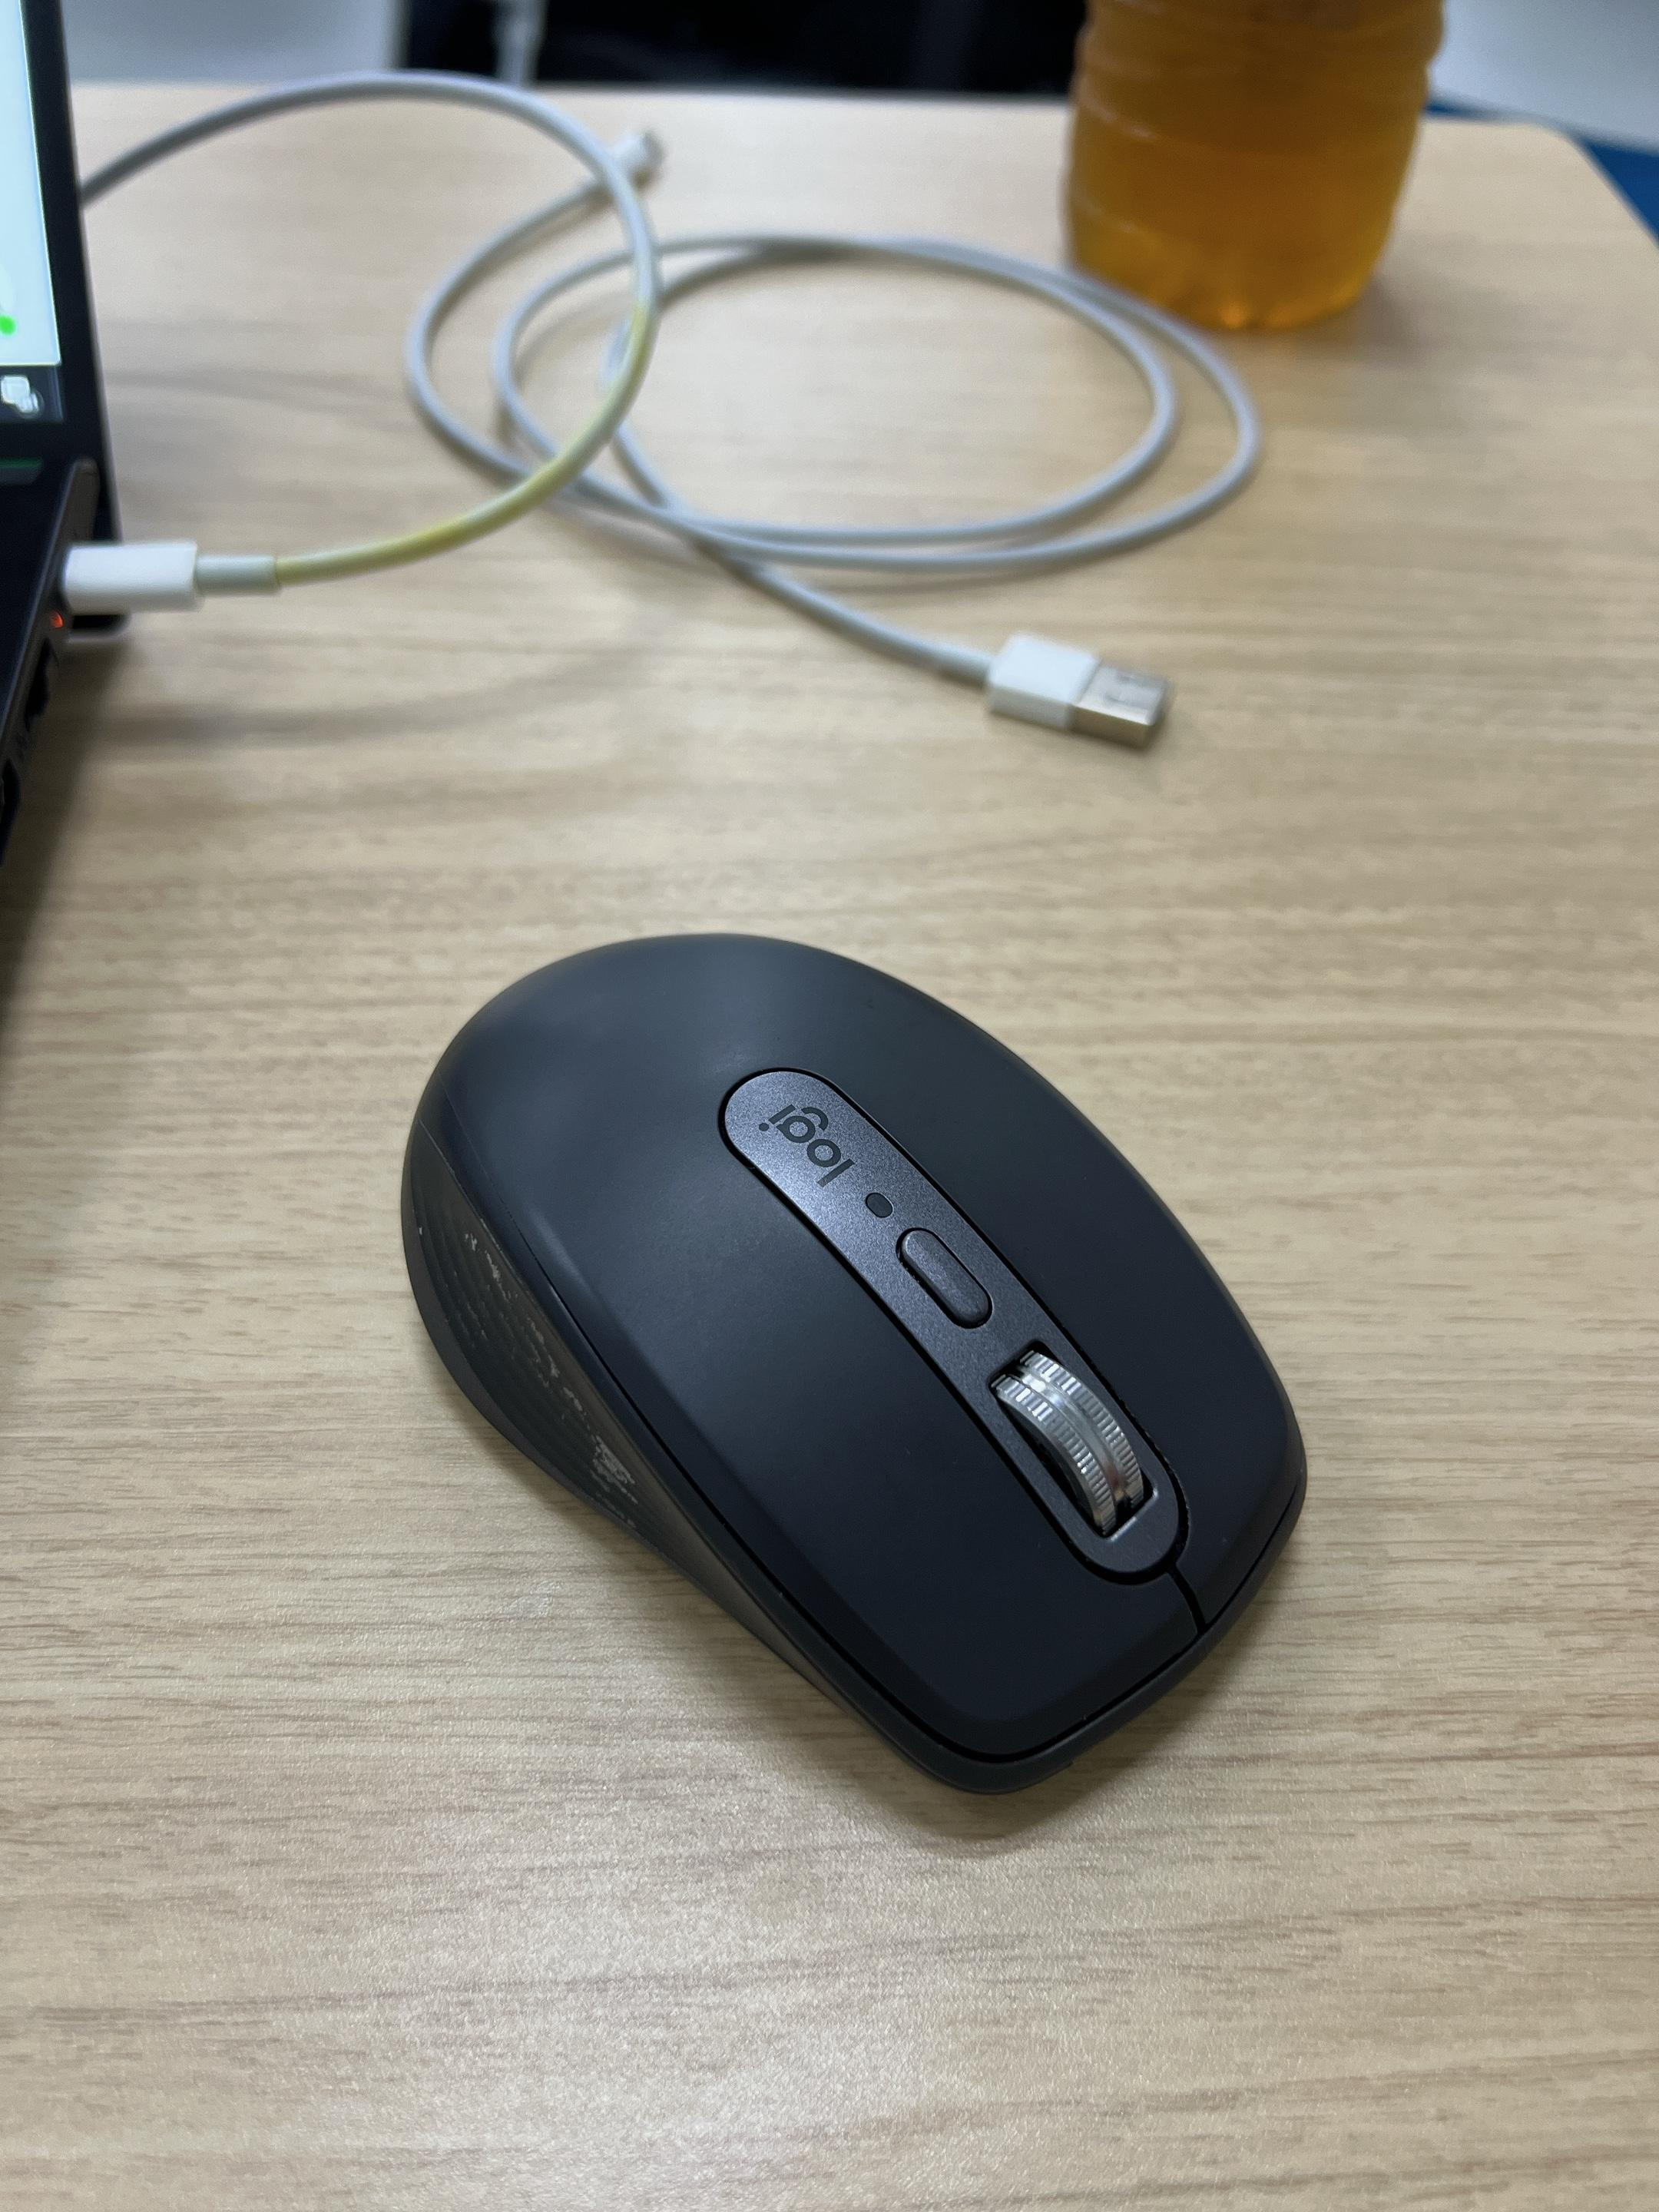mouse: (394, 923, 1300, 1811)
